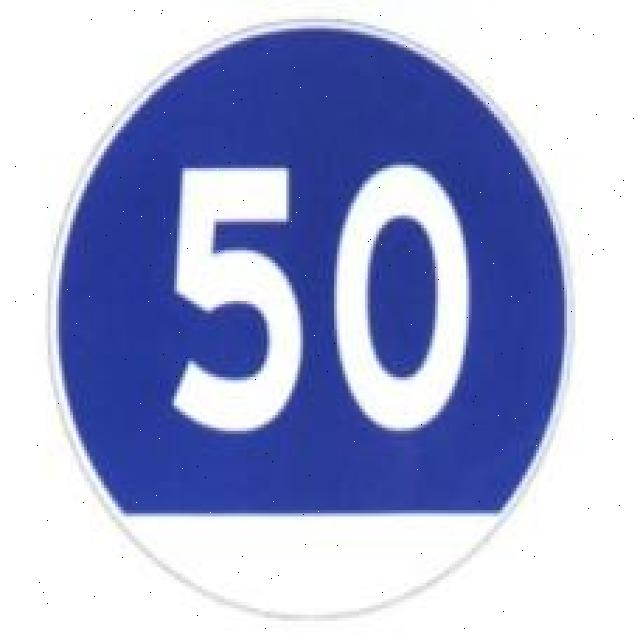speed limit 50: (46, 22, 576, 627)
